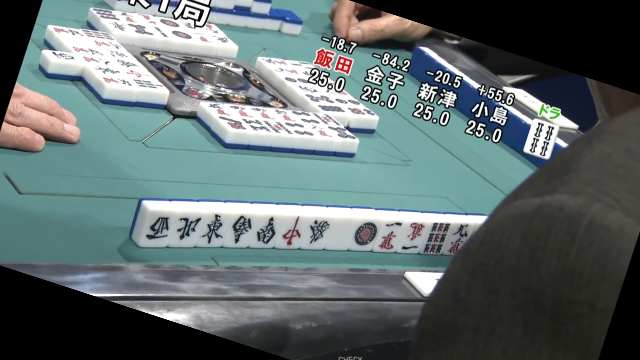Tehai: (129, 190, 518, 261)
